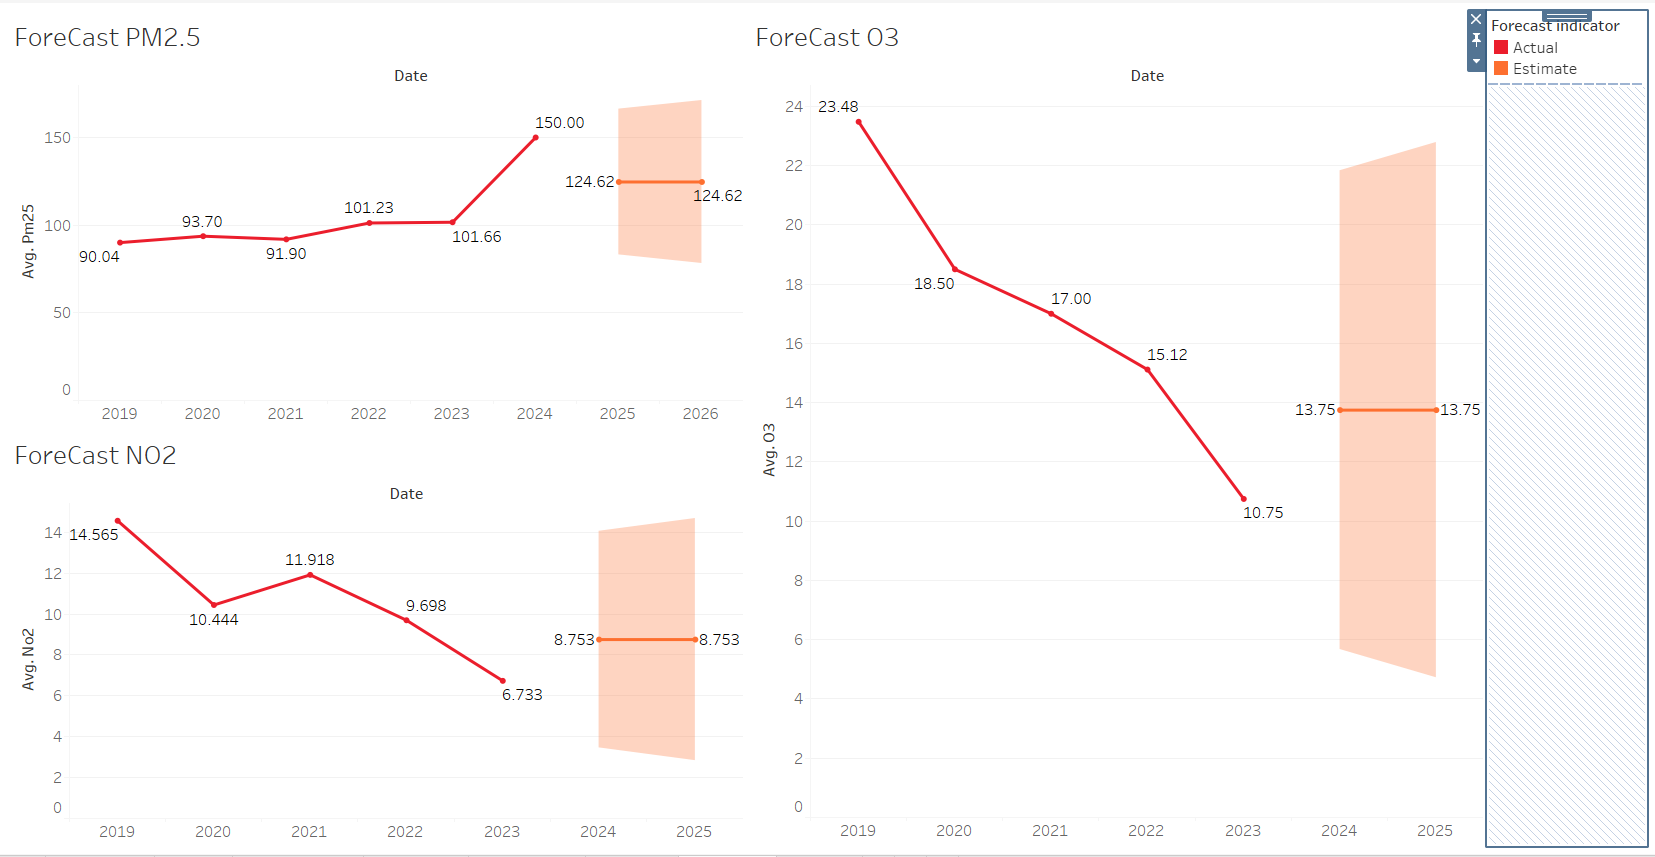

Layout of this report page (visuals, bound fields, positions):
{"tool":"tableau","page":{"name":"ForeCast","canvas":[1000,1000],"units":"permille","ordinal":1},"visuals":[{"type":"worksheet","title":"ForeCast PM2.5","mark":"Automatic","rows":["pm25"],"cols":["date"],"box":[4.8,9.4,446.9,490.6]},{"type":"worksheet","title":"ForeCast O3","mark":"Automatic","rows":["o3"],"cols":["date"],"box":[451.7,9.4,446.9,981.2]},{"type":"legend","title":"ForeCast PM2.5","param":"[federated.190jrgk1haco5013f0a7e152qry1].[none:Forecast Indicator:nk]","box":[898.6,9.4,96.6,84.6]},{"type":"worksheet","title":"ForeCast NO2","mark":"Automatic","rows":["no2"],"cols":["date"],"box":[4.8,500,446.9,490.6]}]}

Visuals, with their boxes on the dashboard's canvas, which has no fixed pixel size, in thousandths of its width and height (x1, y1, x2, y2). These are canvas units, not pixel positions in the 1655x857 screenshot, which may show the page scaled, cropped or inside an application window:
"ForeCast PM2.5" worksheet: 5 9 452 500
"ForeCast O3" worksheet: 452 9 899 991
"ForeCast PM2.5" legend: 899 9 995 94
"ForeCast NO2" worksheet: 5 500 452 991
